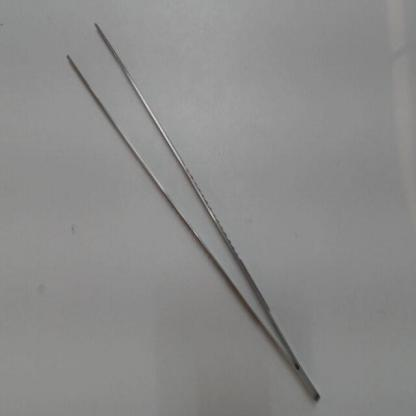DeBakey Dissector: (52, 11, 333, 410)
